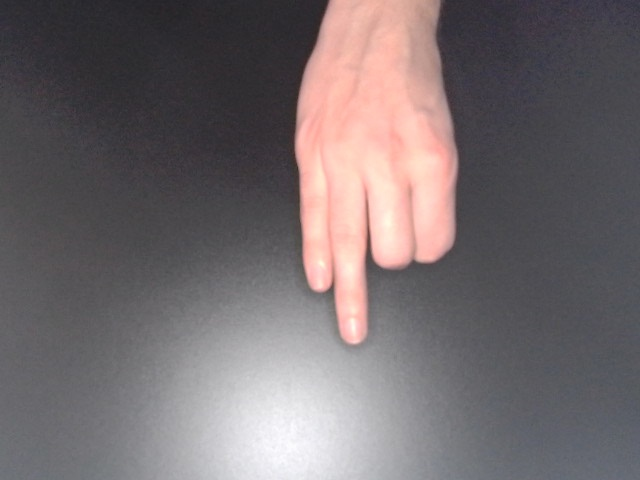n: (284, 1, 466, 352)
